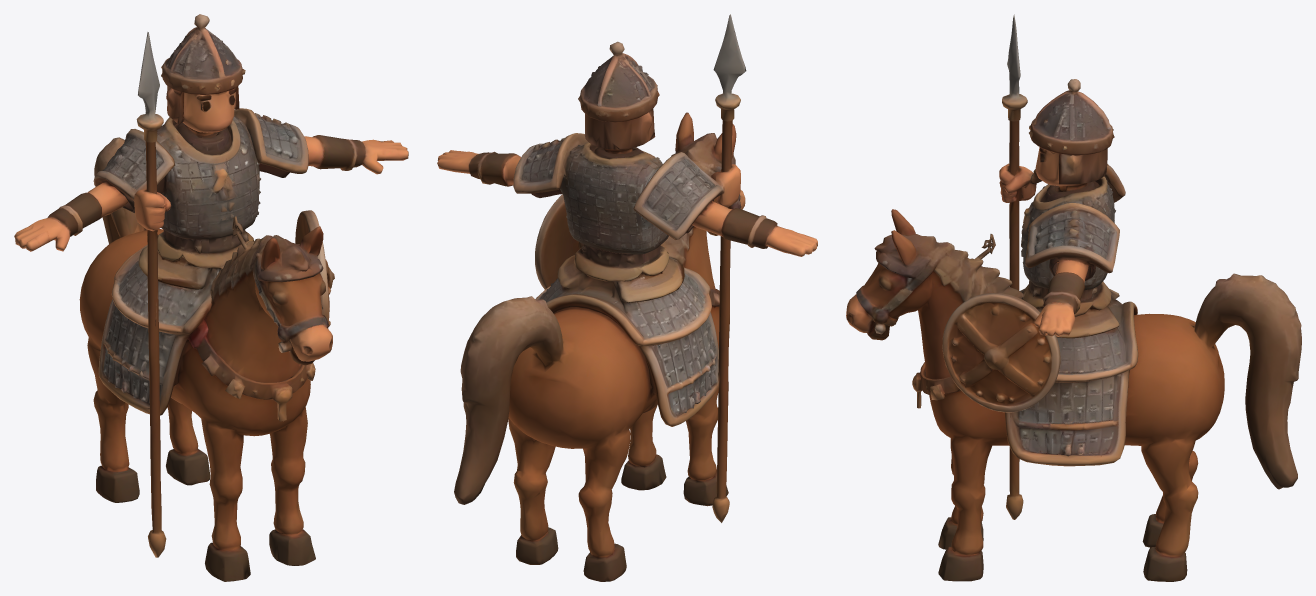
File: soldier_cav.glb
The picture shows the model from 3 angles, left to right: view 1: azimuth 30°, elevation 25°; view 2: azimuth 150°, elevation 25°; view 3: azimuth 270°, elevation 25°; orthographic projection. The views are drawn at different scales.
Visible parts, largest first — view 1: tripo_node_f7d3334e-4530-4c24-a5fc-602c3793c888; view 2: tripo_node_f7d3334e-4530-4c24-a5fc-602c3793c888; view 3: tripo_node_f7d3334e-4530-4c24-a5fc-602c3793c888.
Boxes of the visible parts, bbox=[...] form: tripo_node_f7d3334e-4530-4c24-a5fc-602c3793c888: bbox=[14, 14, 408, 581]; tripo_node_f7d3334e-4530-4c24-a5fc-602c3793c888: bbox=[437, 14, 817, 581]; tripo_node_f7d3334e-4530-4c24-a5fc-602c3793c888: bbox=[846, 14, 1301, 581].
Bounding box in the file's own units: 0.7605 × 1 × 0.8165.
1 material, 1 textured.
